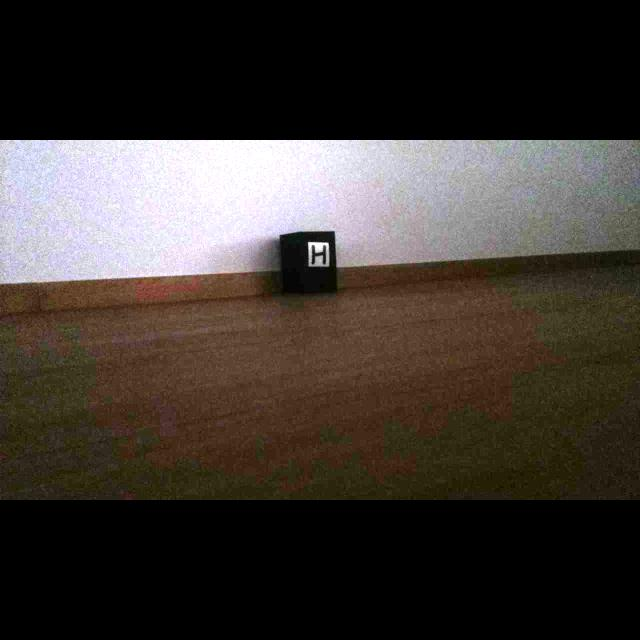H: (311, 245, 326, 265)
